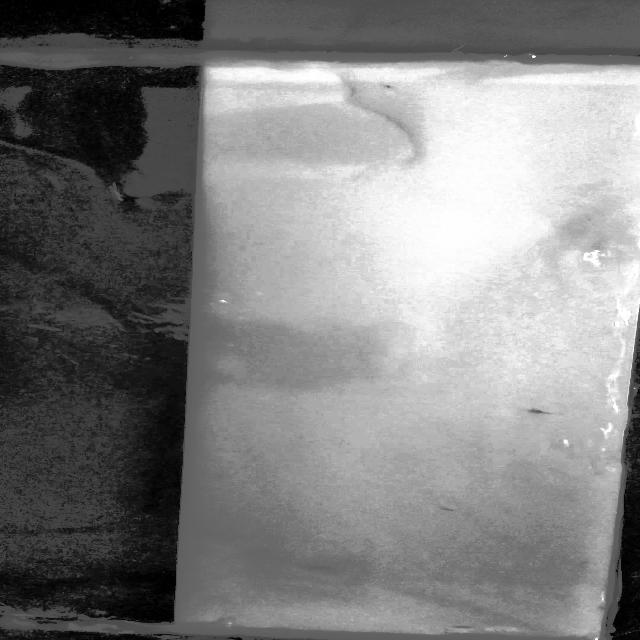shrimp: (517, 403, 560, 420), (369, 81, 401, 96), (298, 562, 338, 572)
